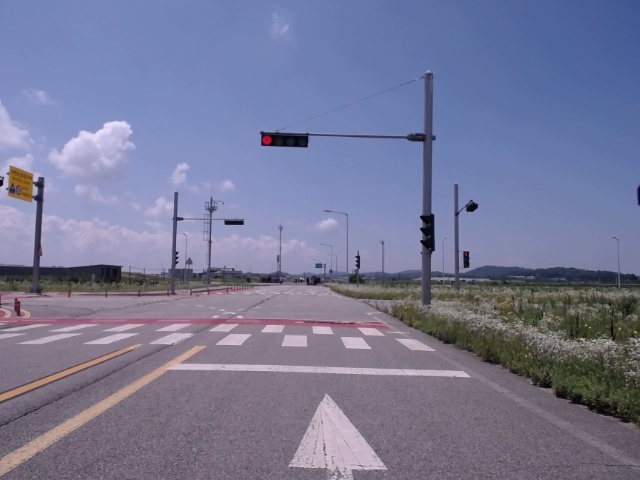red_4: (261, 133, 309, 148)
